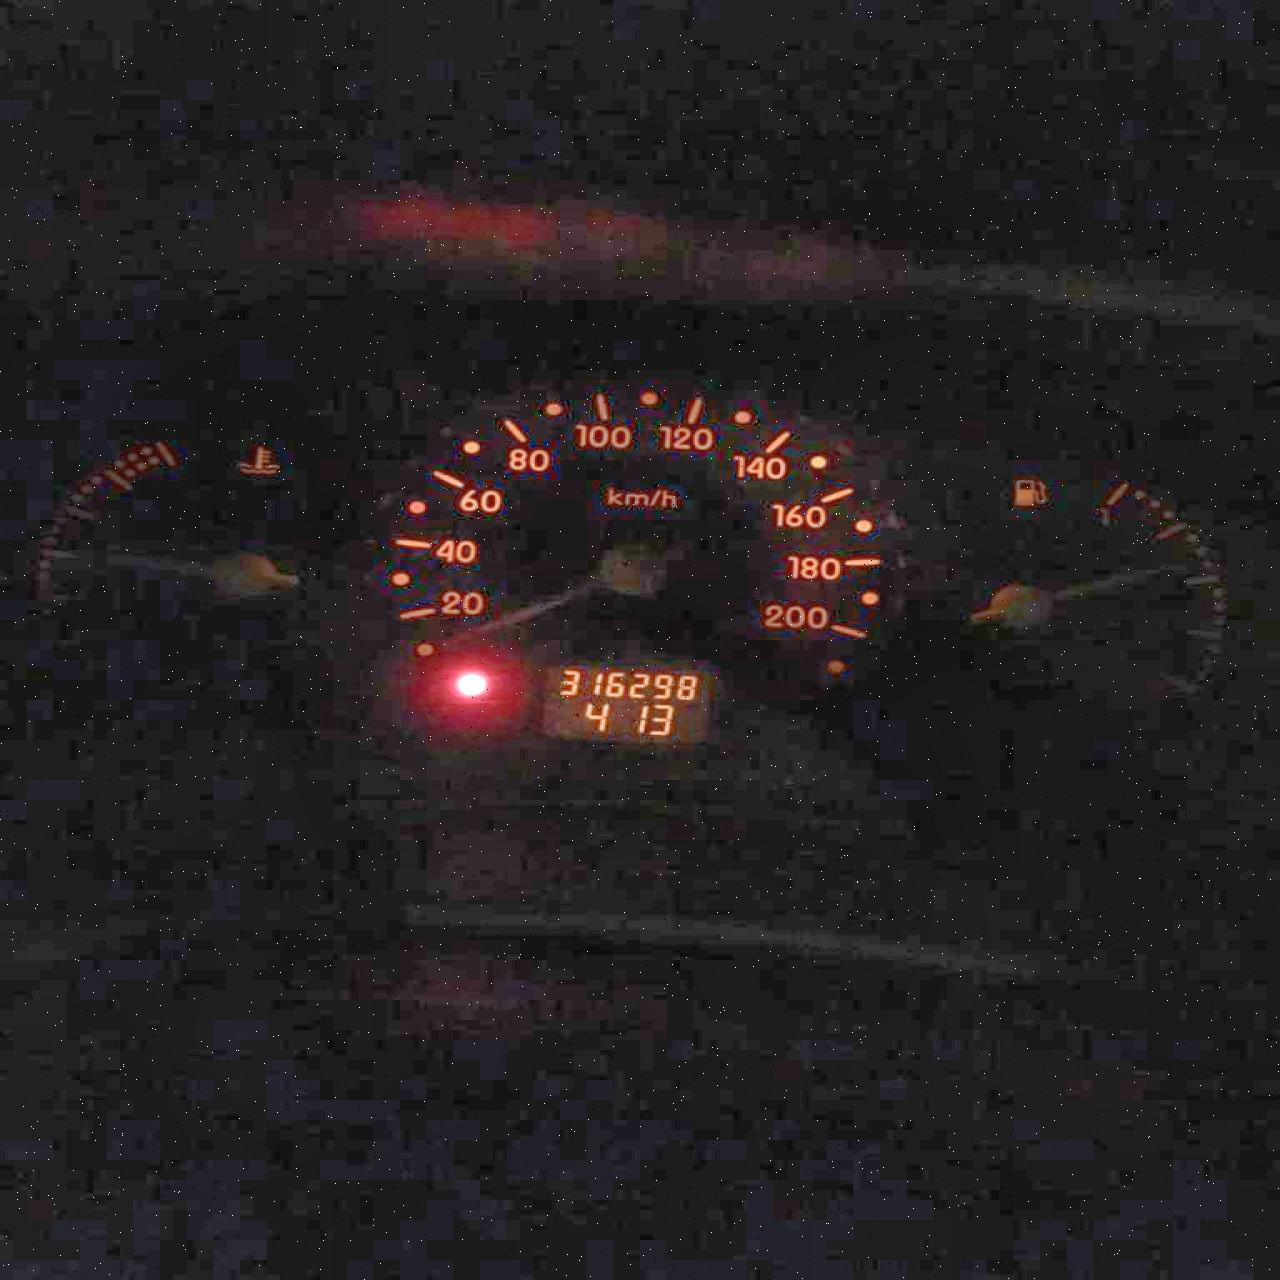1: (636, 703, 648, 733), (592, 670, 601, 695)
2: (627, 673, 648, 697)
3: (647, 703, 672, 735), (557, 669, 578, 695)
4: (584, 701, 608, 731)
6: (604, 672, 624, 696)
8: (673, 675, 696, 700)
9: (652, 674, 672, 699)
odometer: (532, 662, 713, 742)
